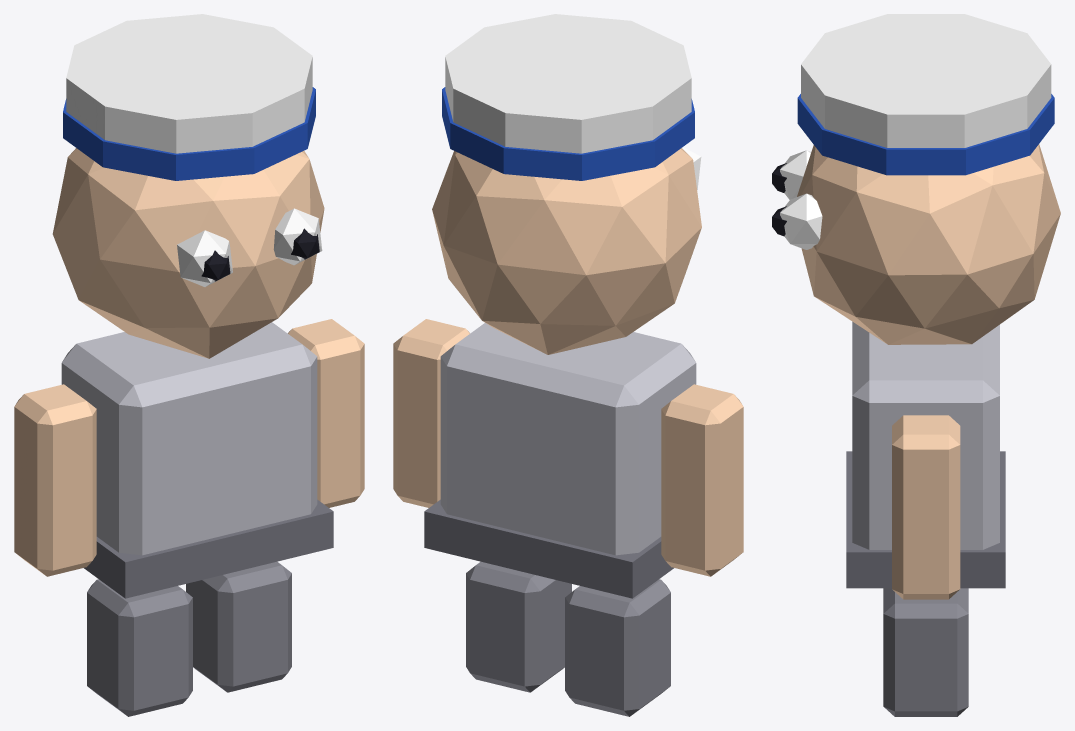
The model's file is MistSoldier.fbx.
The picture shows the model from 3 angles, left to right: view 1: azimuth 30°, elevation 25°; view 2: azimuth 150°, elevation 25°; view 3: azimuth 270°, elevation 25°; orthographic projection.
Visible parts, largest first — view 1: MistSoldier; view 2: MistSoldier; view 3: MistSoldier.
Part boxes in pixels (bbox=[...]): MistSoldier: bbox=[14, 14, 364, 716]; MistSoldier: bbox=[393, 14, 743, 716]; MistSoldier: bbox=[772, 14, 1060, 716].
Size of the model in its own units: 3.96 by 7.16 by 3.05.
1 material, 1 textured.
